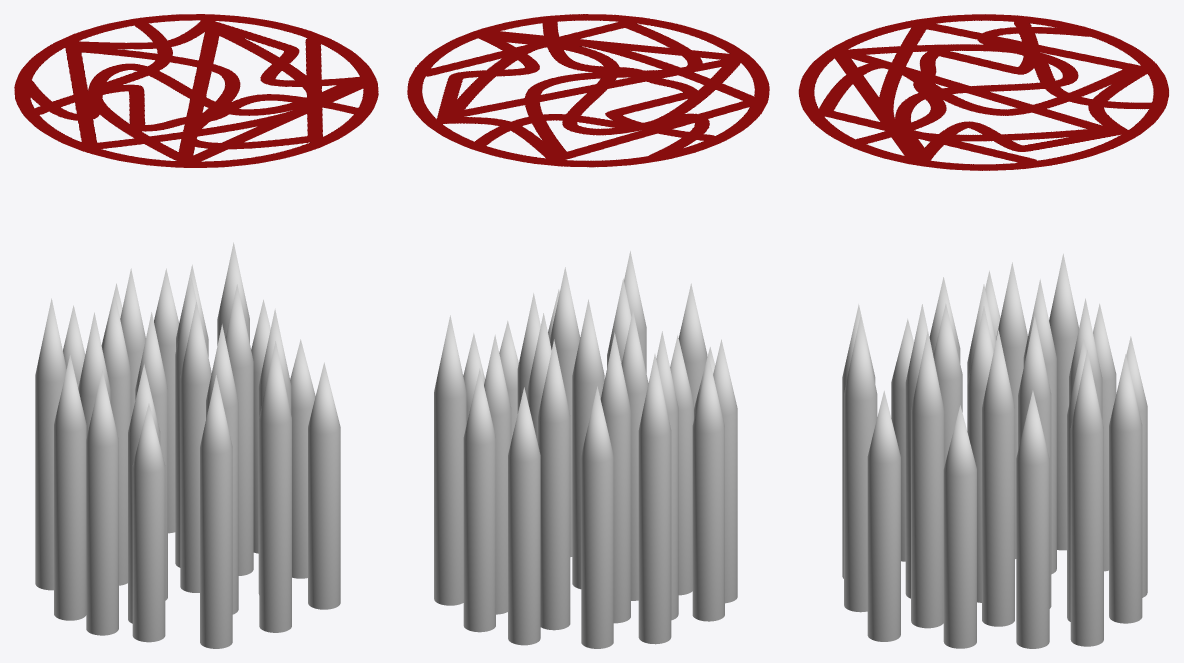
Rendered from trap.fbx.
The picture shows the model from 3 angles, left to right: view 1: azimuth 30°, elevation 25°; view 2: azimuth 150°, elevation 25°; view 3: azimuth 270°, elevation 25°; orthographic projection. The views are drawn at different scales.
Parts seen in each view (by area): view 1: Stake, Margic Circle; view 2: Stake, Margic Circle; view 3: Stake, Margic Circle.
Part boxes in pixels (x1,y1,x2,y2): Stake: [35, 242, 340, 648]; Margic Circle: [14, 14, 378, 167]; Stake: [434, 251, 737, 648]; Margic Circle: [407, 14, 769, 167]; Stake: [842, 253, 1147, 648]; Margic Circle: [798, 14, 1168, 170].
Size of the model in its own units: 200 by 300 by 200.
2 materials, 1 textured.
